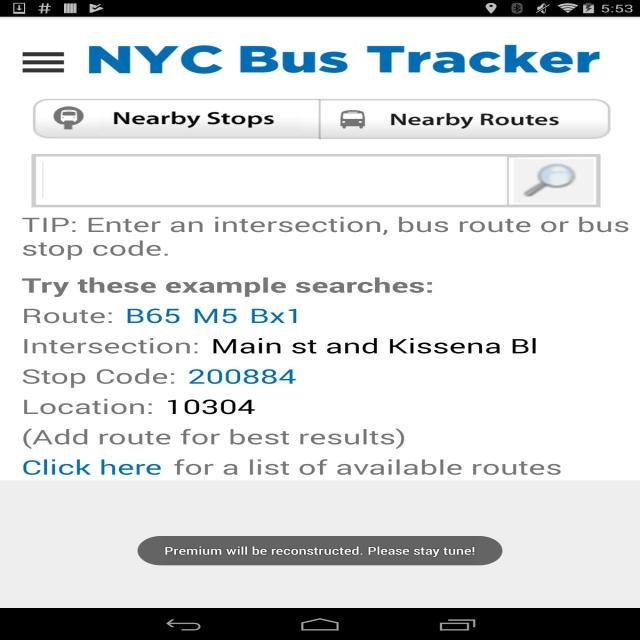button: (34, 98, 319, 140), (321, 99, 610, 139), (508, 157, 598, 206), (16, 46, 70, 78)
field: (34, 156, 599, 208)
heading: (81, 40, 606, 78), (11, 273, 437, 300)
link: (121, 305, 306, 327), (19, 456, 166, 477), (185, 366, 300, 388)
text: (16, 304, 567, 481), (20, 215, 630, 259), (159, 544, 475, 558)
